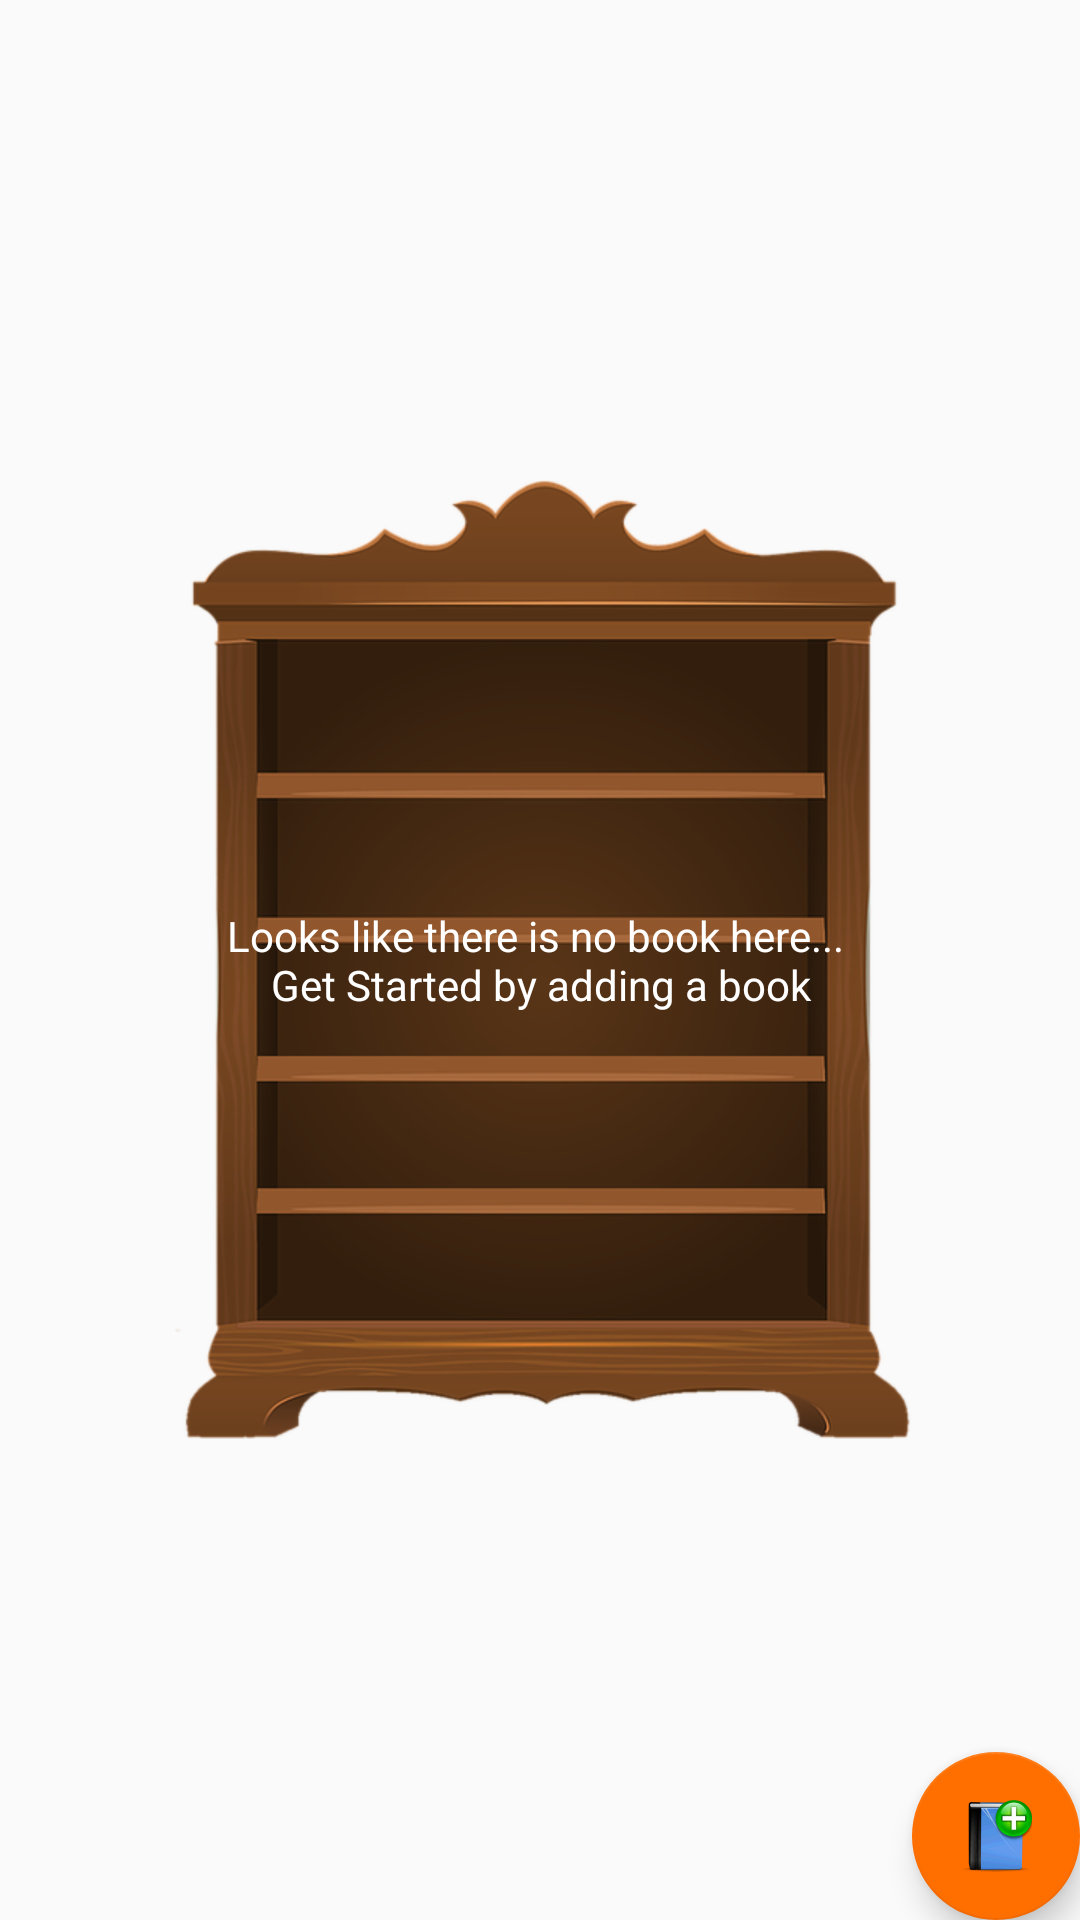

Icons on this 1080px x 1920px Android screen, each with the point to tap as (x=x, y=y):
add book: (x=996, y=1836)
